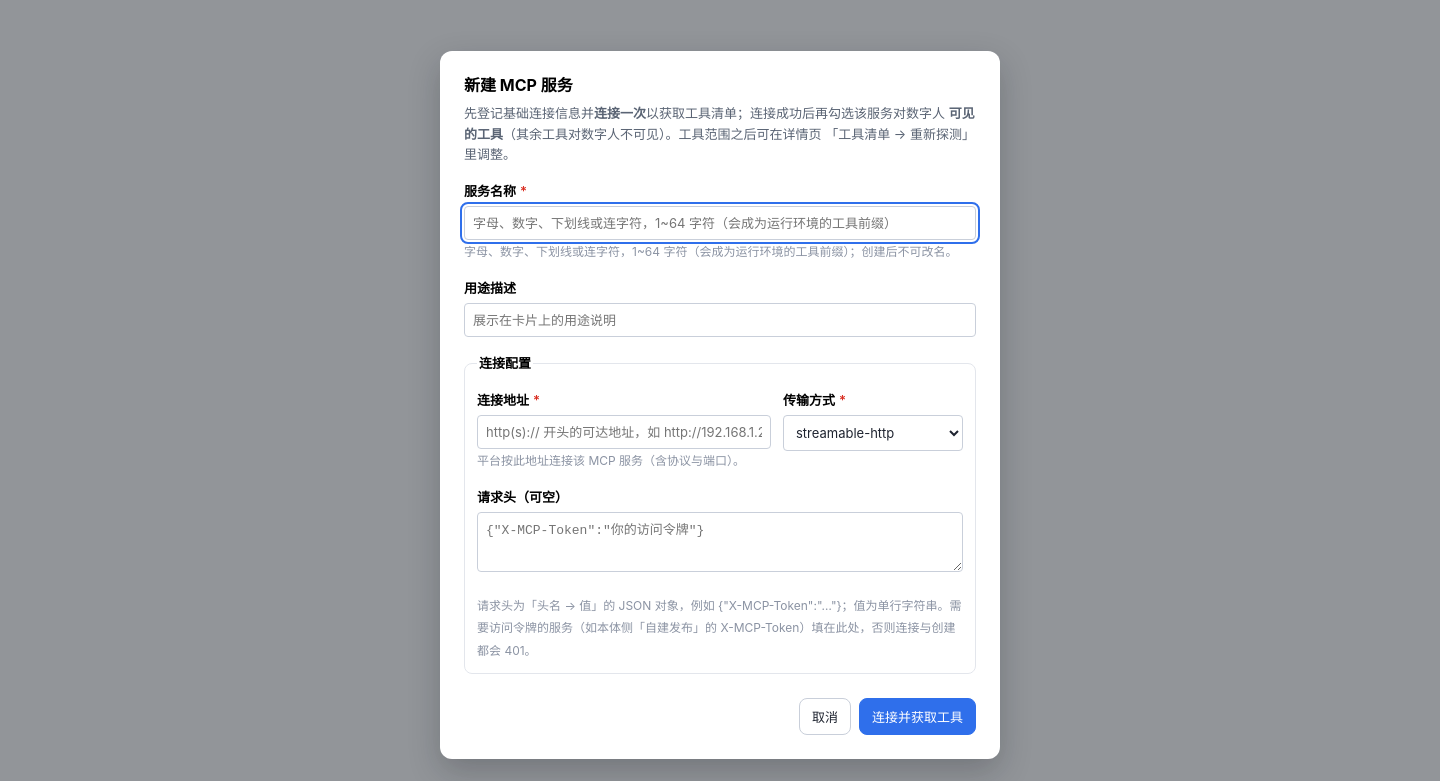
Test: McpCreateDialog —— 第二步：勾选并创建 › 重名 409 → 显示可读文案、弹窗不关、输入保留
In the field with id "mcp-create-name": (720, 223) [464, 206, 976, 240], type "new-mcp"
In the field with id "mcp-create-description": (720, 320) [464, 303, 976, 337], type "排产服务"
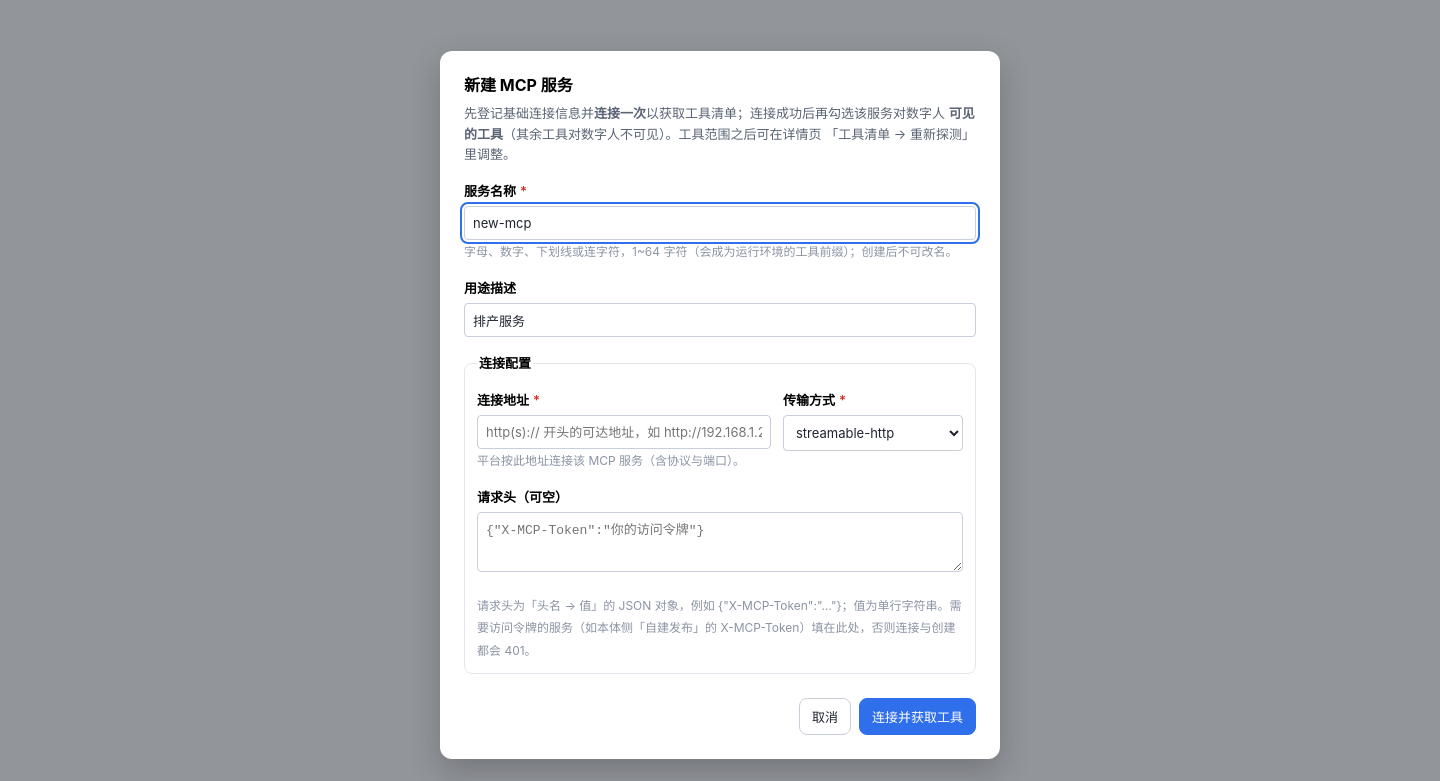
In the field with id "mcp-create-url": (624, 432) [477, 415, 771, 449], type "http://h:8000/mcp"
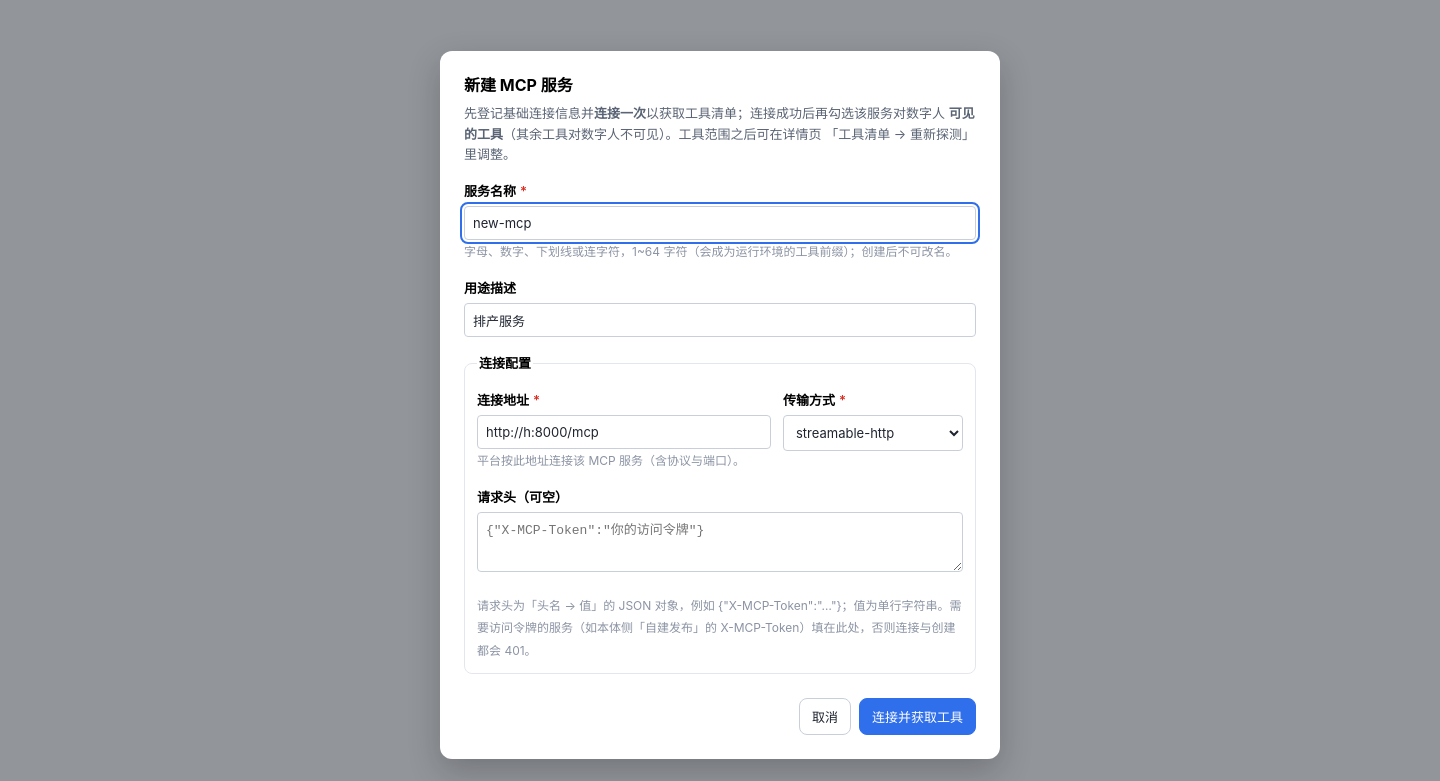
Click the button with test id "confirm": (918, 717) [859, 698, 976, 735]
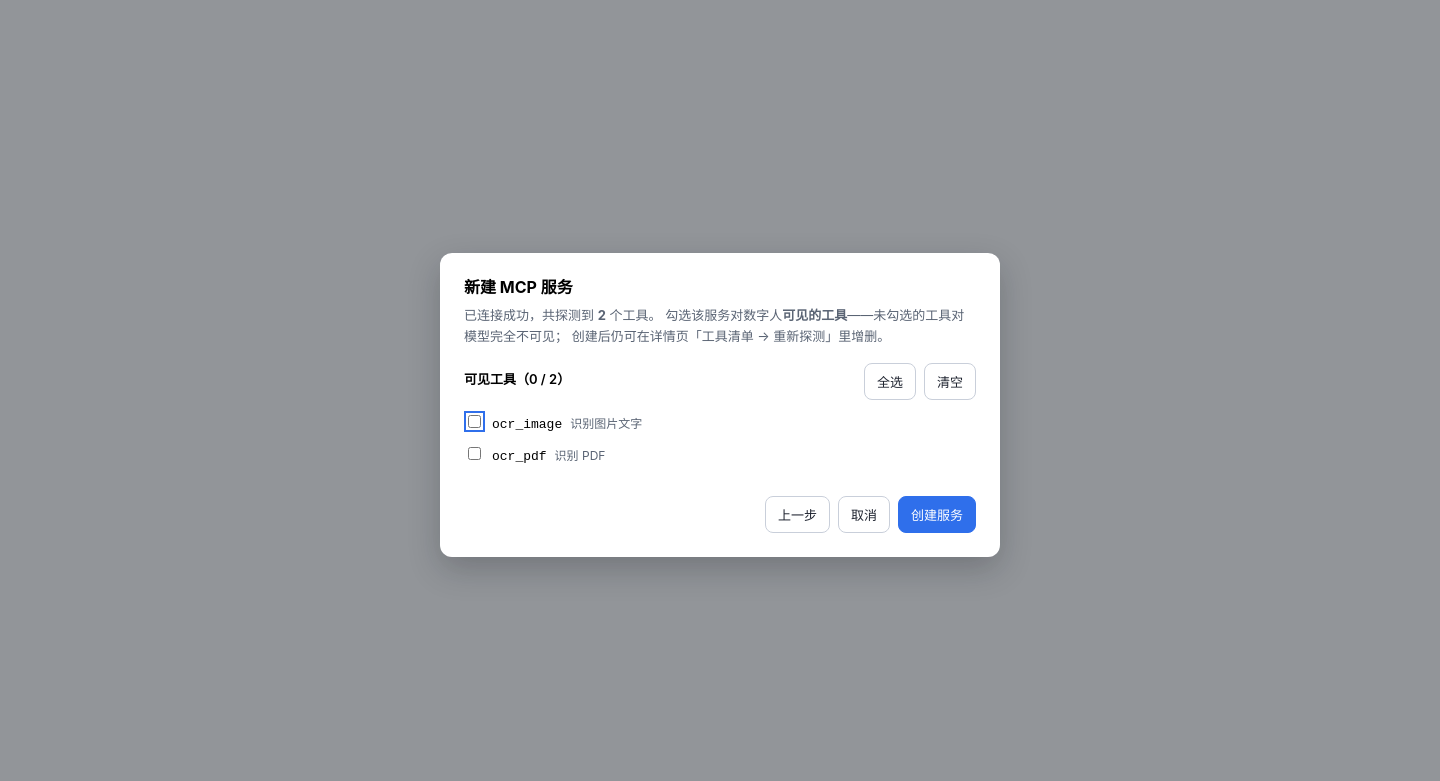
Click the checkbox with test id "tool" showing "ocr_image 识别图片文字": (474, 422) [468, 415, 481, 428]
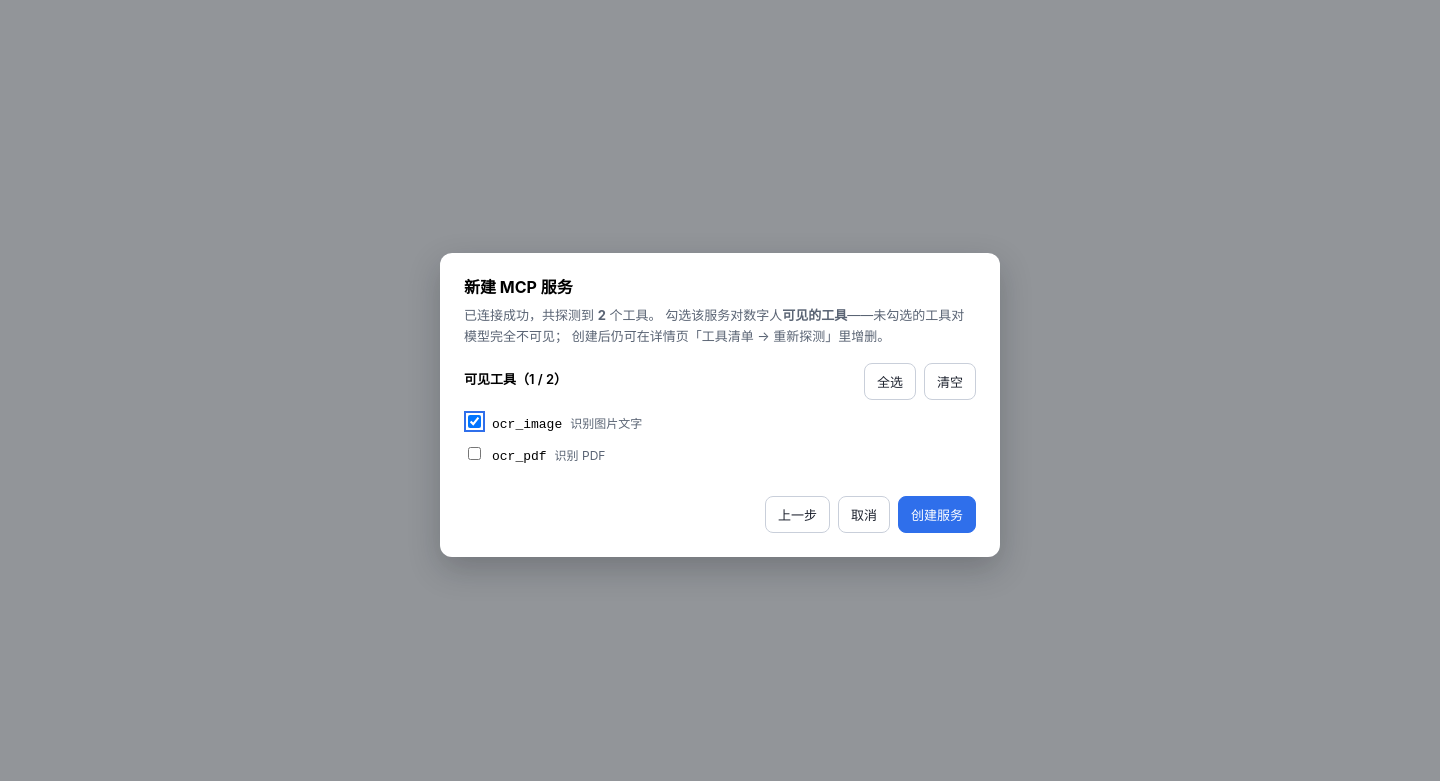
Click the button with test id "create": (937, 514) [898, 496, 976, 533]
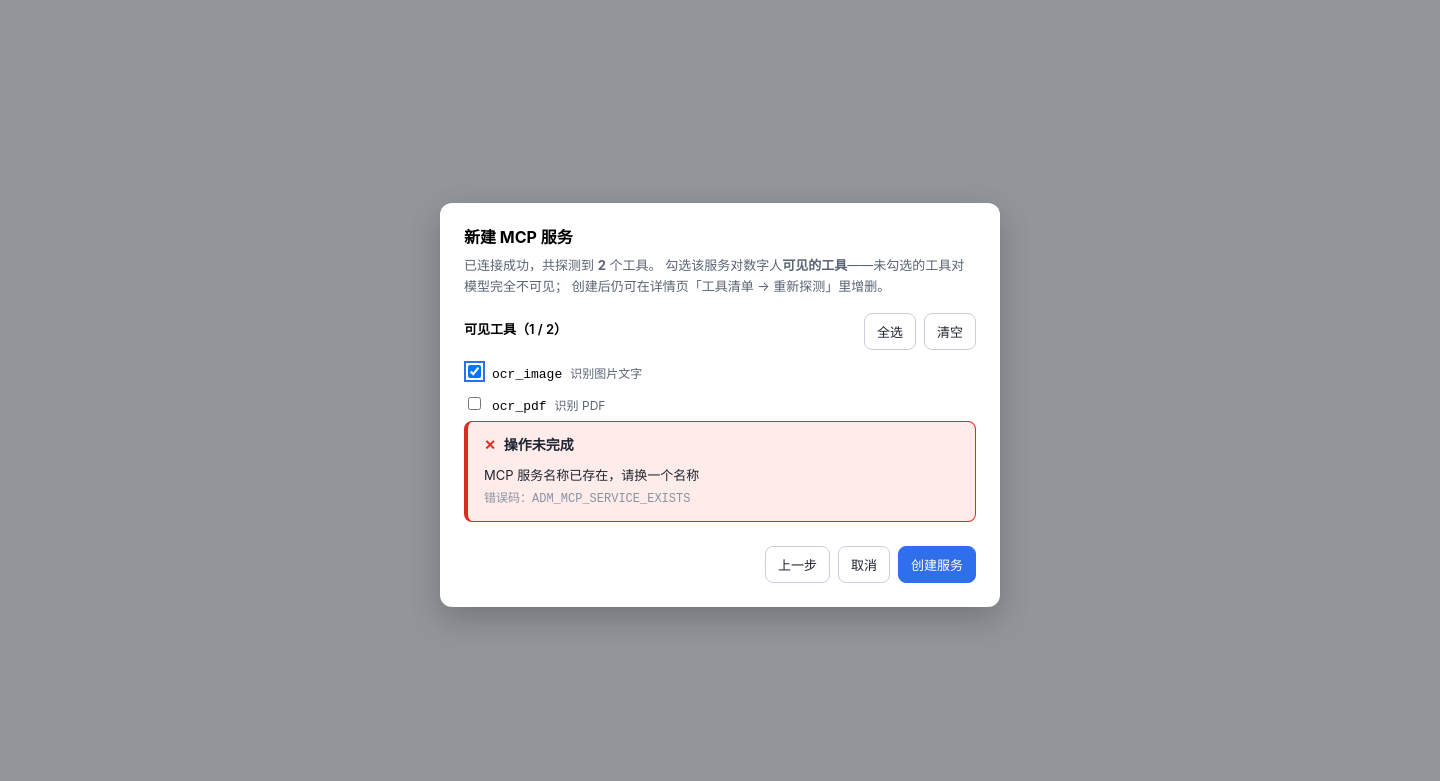
Expected: the text "MCP 服务名称已存在，请换一个名称" is shown, [484, 467, 699, 483]
Click the button with test id "back": (798, 564) [765, 546, 830, 583]
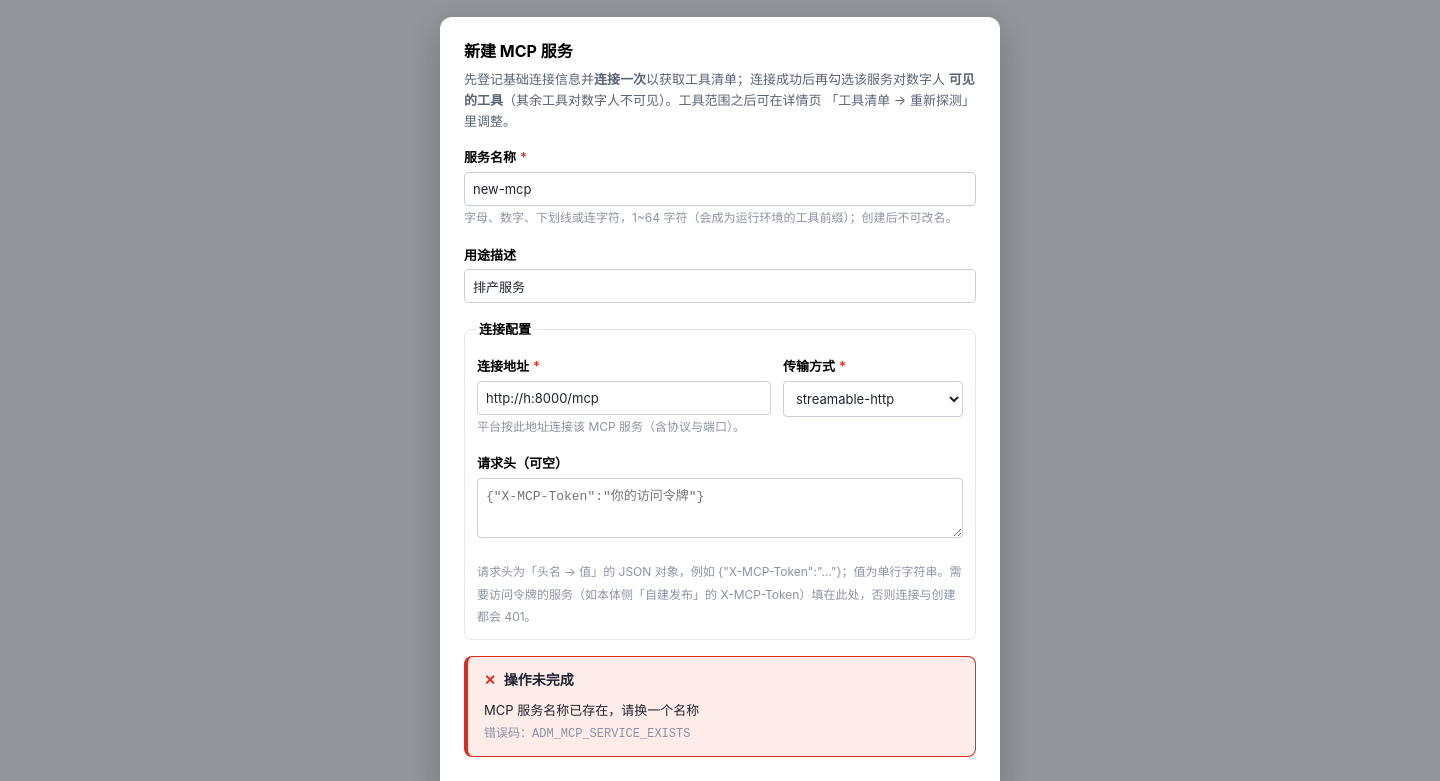
Expected: the field with id "mcp-create-name" holds "new-mcp", [464, 172, 976, 206]
Expected: the field with id "mcp-create-description" holds "排产服务", [464, 269, 976, 303]
